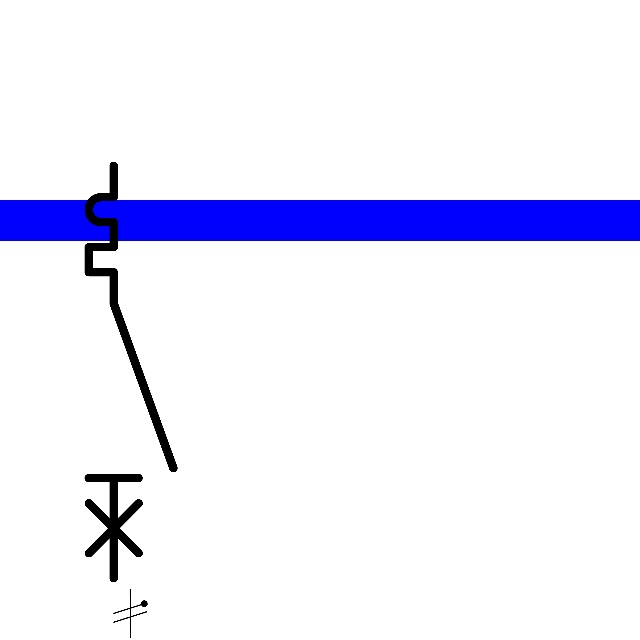interruptor_termomagnetico: (78, 155, 184, 589)
